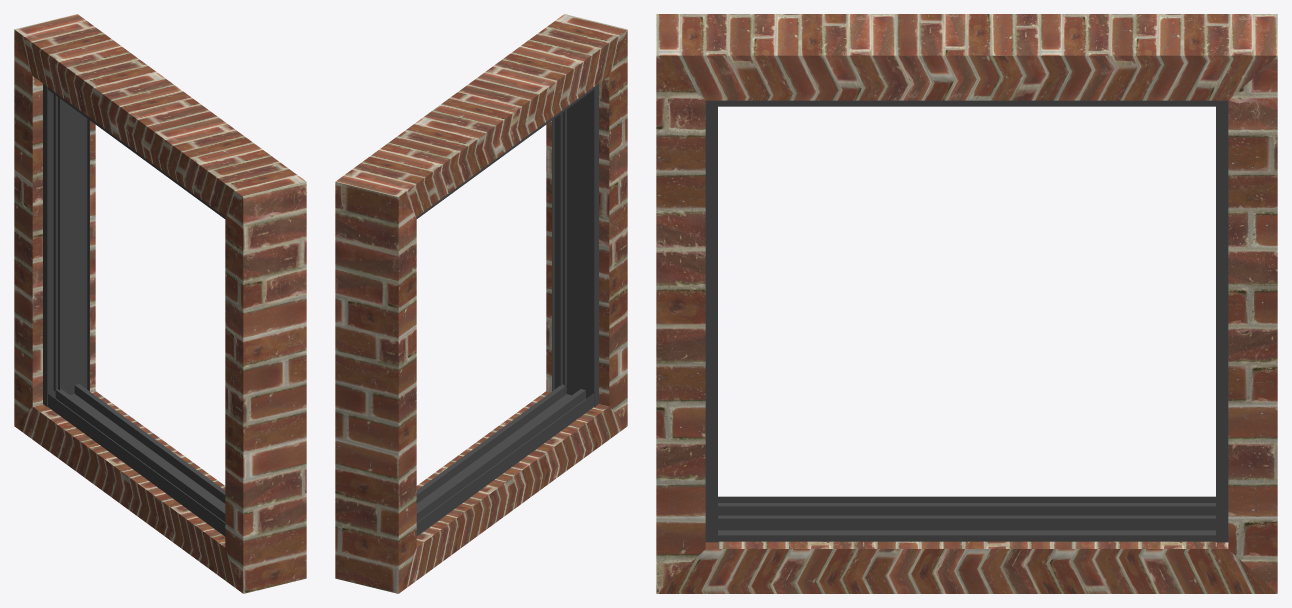
Rendered from Double-sliding-frames.gltf.
3 views of the same model, side by side, from view 1: azimuth 30°, elevation 25°; view 2: azimuth 150°, elevation 25°; view 3: azimuth 270°, elevation 25° (orthographic). The views are drawn at different scales.
Visible parts, largest first — view 1: Window_frame.001, Window_rail.001; view 2: Window_frame.001, Window_rail.001; view 3: Window_frame.001, Window_rail.001.
Part boxes in pixels (x1,y1,x2,y2): Window_frame.001: (14,14,306,593); Window_rail.001: (43,84,225,536); Window_frame.001: (335,14,627,593); Window_rail.001: (416,84,598,536); Window_frame.001: (656,14,1277,593); Window_rail.001: (705,100,1228,542).
Size of the model in its own units: 0.4325 by 2.59 by 2.72.
2 materials, 1 textured.
